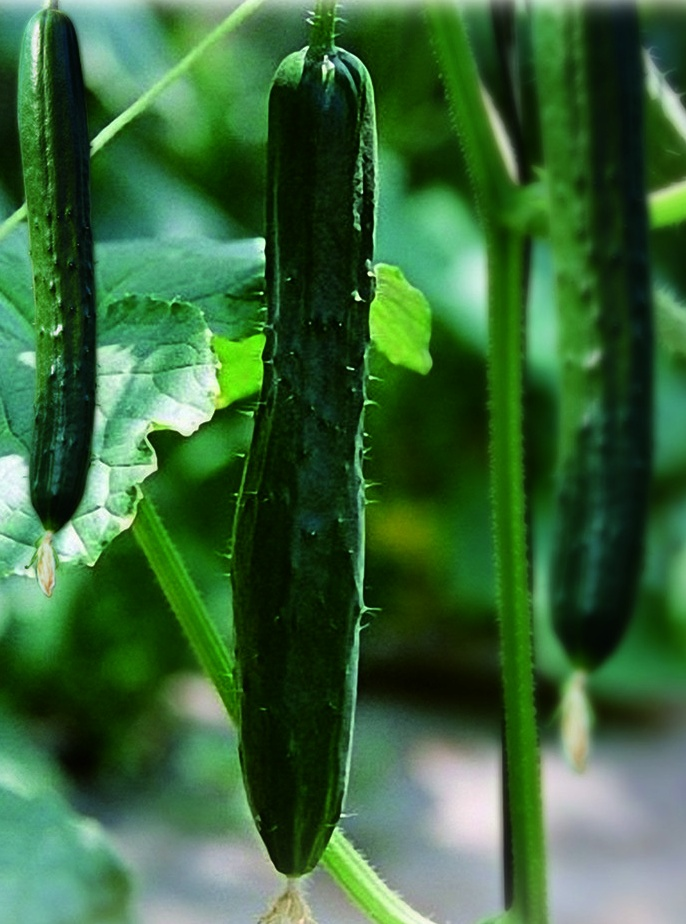cucumber: (218, 51, 396, 880), (11, 8, 109, 534)
